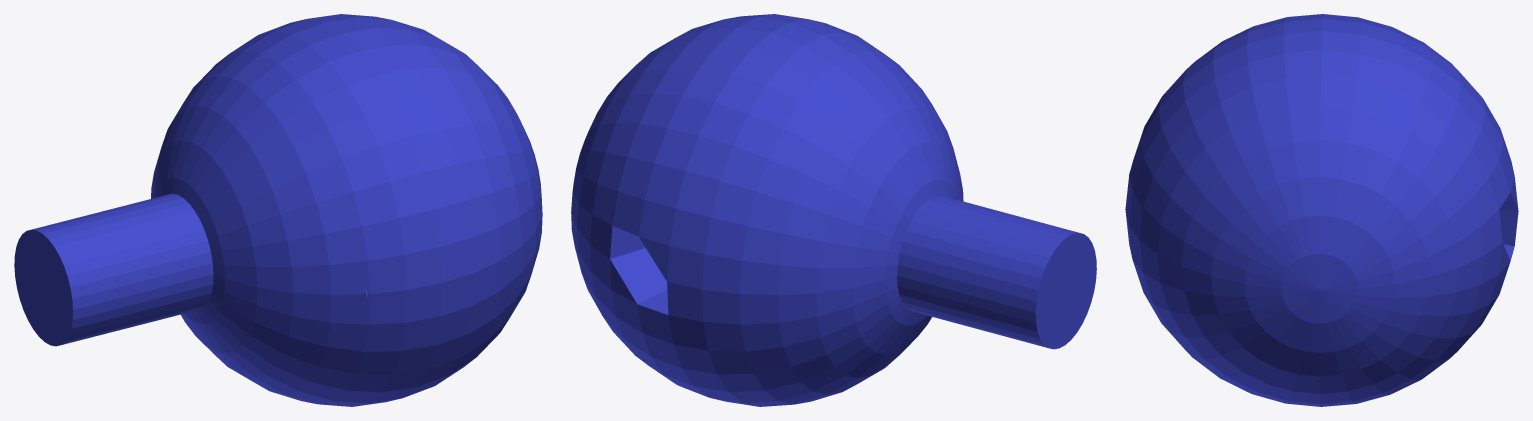
The model's file is enemyblue.fbx.
3 renders of one model, left to right at view 1: azimuth 30°, elevation 25°; view 2: azimuth 150°, elevation 25°; view 3: azimuth 270°, elevation 25°, orthographic.
Parts seen in each view (by area): view 1: 円柱; view 2: 円柱; view 3: 円柱.
Part boxes in pixels (bbox=[...]): 円柱: bbox=[14, 14, 542, 406]; 円柱: bbox=[571, 14, 1096, 406]; 円柱: bbox=[1125, 14, 1518, 406].
Bounding box in the file's own units: 277 × 200 × 200.
